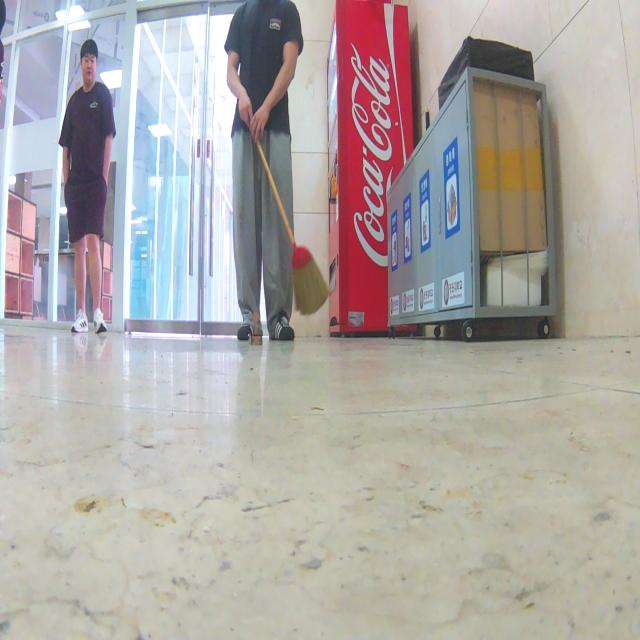target: (248, 310, 263, 346)
